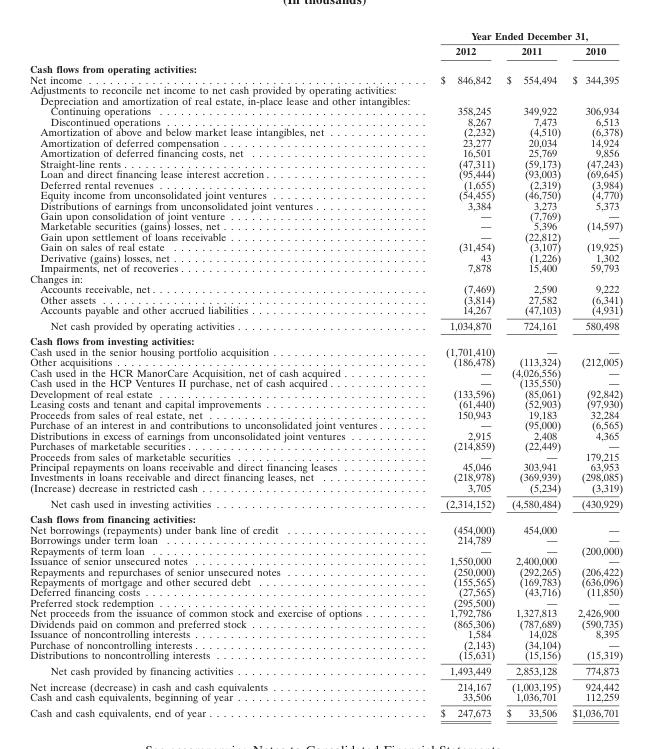table: (29, 29, 622, 718)
table column: (29, 29, 408, 718), (408, 29, 500, 718), (500, 29, 566, 718), (566, 29, 622, 718)
table column header: (29, 29, 622, 59)
table projected row header: (29, 59, 622, 73), (29, 510, 622, 523), (29, 333, 622, 345), (29, 94, 622, 105), (29, 272, 622, 283), (29, 84, 622, 94)
table row: (29, 42, 622, 59), (29, 317, 622, 333), (29, 662, 622, 678), (29, 495, 622, 510), (29, 59, 622, 73), (29, 704, 622, 718), (29, 29, 622, 42), (29, 304, 622, 317), (29, 482, 622, 495), (29, 510, 622, 523), (29, 649, 622, 662), (29, 678, 622, 691), (29, 691, 622, 704), (29, 333, 622, 345), (29, 73, 622, 84), (29, 94, 622, 105), (29, 115, 622, 126), (29, 136, 622, 147), (29, 157, 622, 168), (29, 178, 622, 189), (29, 199, 622, 210), (29, 220, 622, 231), (29, 251, 622, 262), (29, 272, 622, 283), (29, 293, 622, 304), (29, 345, 622, 356), (29, 366, 622, 377), (29, 387, 622, 398), (29, 408, 622, 419), (29, 429, 622, 440), (29, 450, 622, 461), (29, 471, 622, 482), (29, 523, 622, 534), (29, 544, 622, 555), (29, 565, 622, 576), (29, 586, 622, 597), (29, 617, 622, 628), (29, 638, 622, 649), (29, 84, 622, 94), (29, 105, 622, 115), (29, 126, 622, 136), (29, 147, 622, 157), (29, 168, 622, 178), (29, 189, 622, 199), (29, 210, 622, 220), (29, 231, 622, 241), (29, 241, 622, 251), (29, 262, 622, 272), (29, 283, 622, 293), (29, 356, 622, 366), (29, 377, 622, 387), (29, 398, 622, 408), (29, 419, 622, 429), (29, 440, 622, 450), (29, 461, 622, 471), (29, 534, 622, 544), (29, 555, 622, 565), (29, 576, 622, 586), (29, 597, 622, 607), (29, 607, 622, 617), (29, 628, 622, 638)
table spanning cell: (408, 29, 622, 42)
